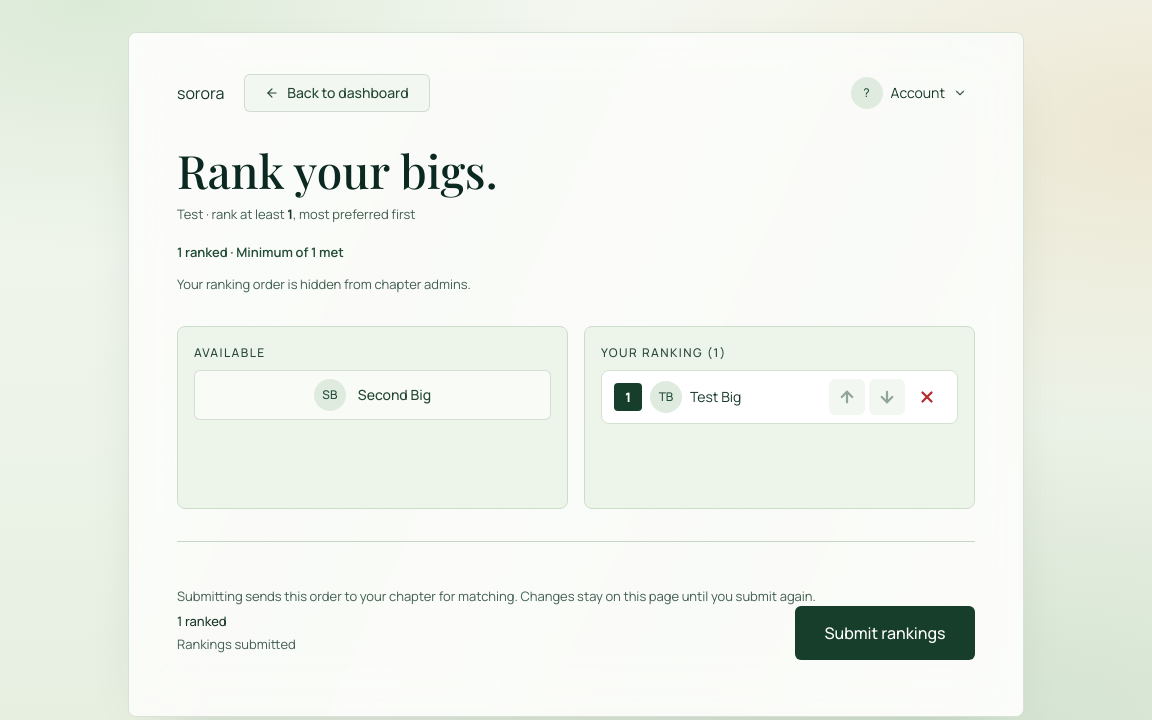
Test case: ranking progress and save state follow edits, failures and confirmed saves
This screenshot has width=1152, height=720.
Expected: the text "Your ranking (1)" is shown, [601,344,727,361]
Expected: the message named "Ranking submission status" shows "Rankings submitted", [177,636,296,654]
What coordinates should you click on to do the following:
click the button "SB Second Big"
I would click on:
 (372, 395)
Its box is [194,370,551,420].
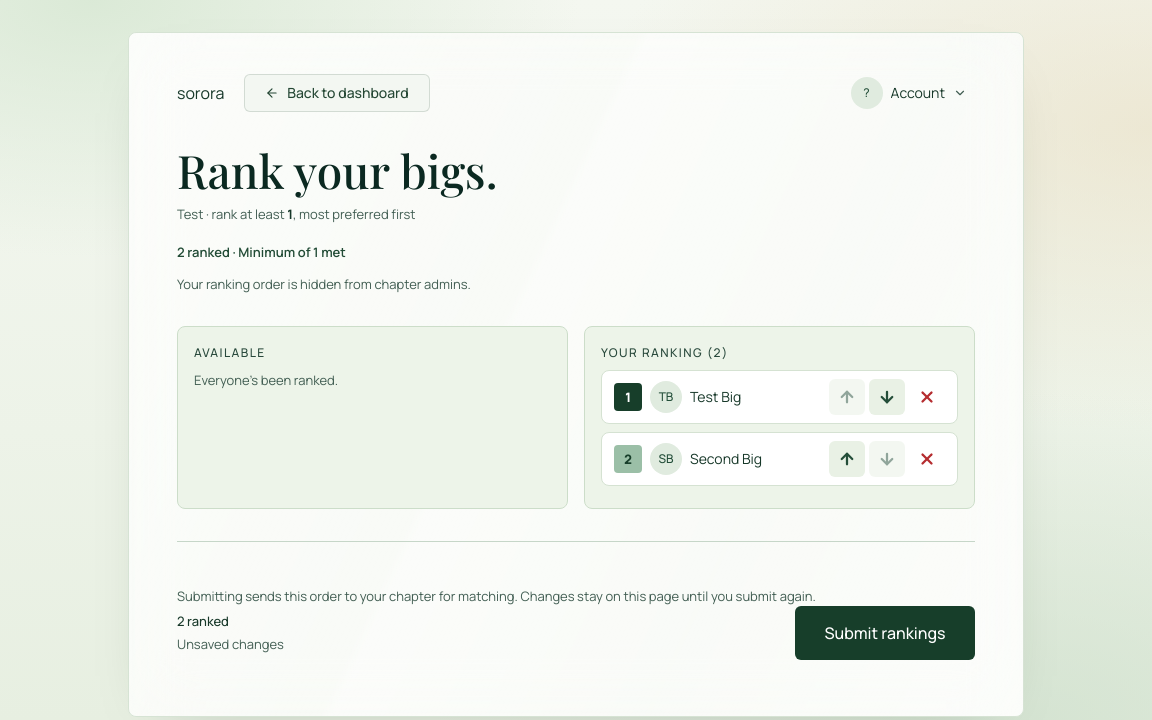
Expected: the message named "Ranking submission status" shows "Unsaved changes", [177,636,284,654]
Expected: the text "2 ranked · Minimum of 1 met" is shown, [177,243,346,261]
What coordinates should you click on to do the following:
click the button "Submit rankings"
I would click on:
 (885, 633)
Its box is [795,606,975,660].
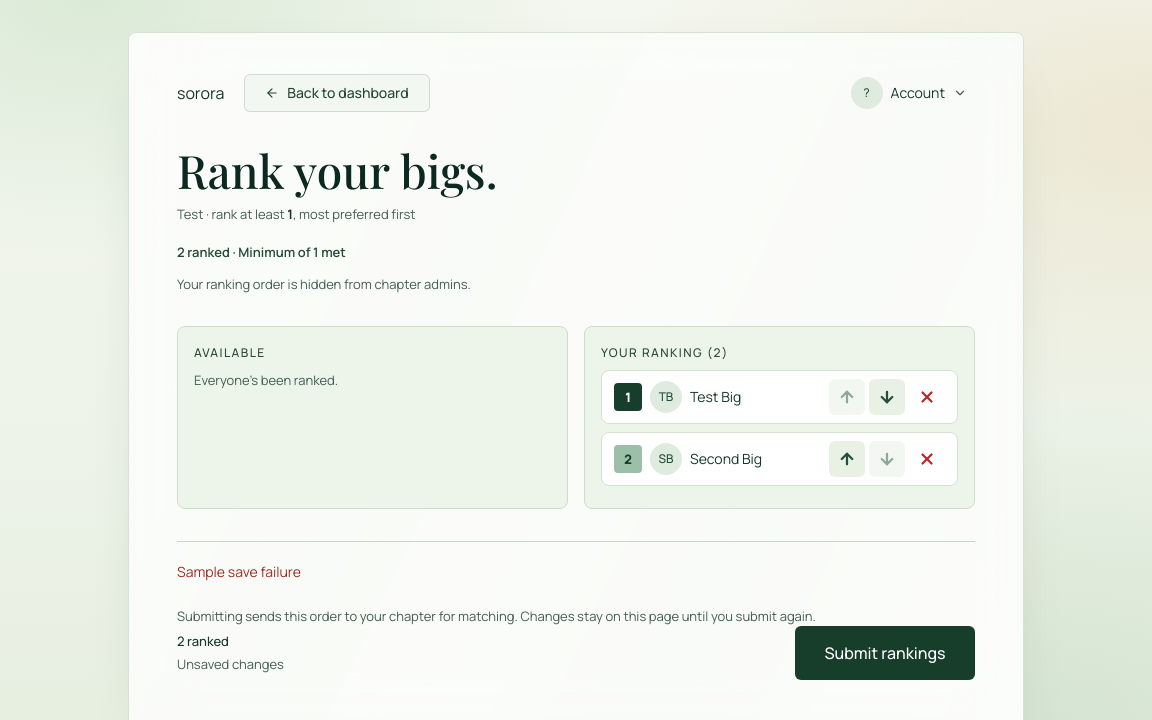
Expected: the message named "Ranking submission status" shows "Unsaved changes", [177,656,284,674]
Expected: the message "Sample save failure" is shown, [177,562,301,581]
What coordinates should you click on to do the following:
click the button "Submit rankings"
I would click on:
 (885, 653)
Its box is [795,626,975,680].
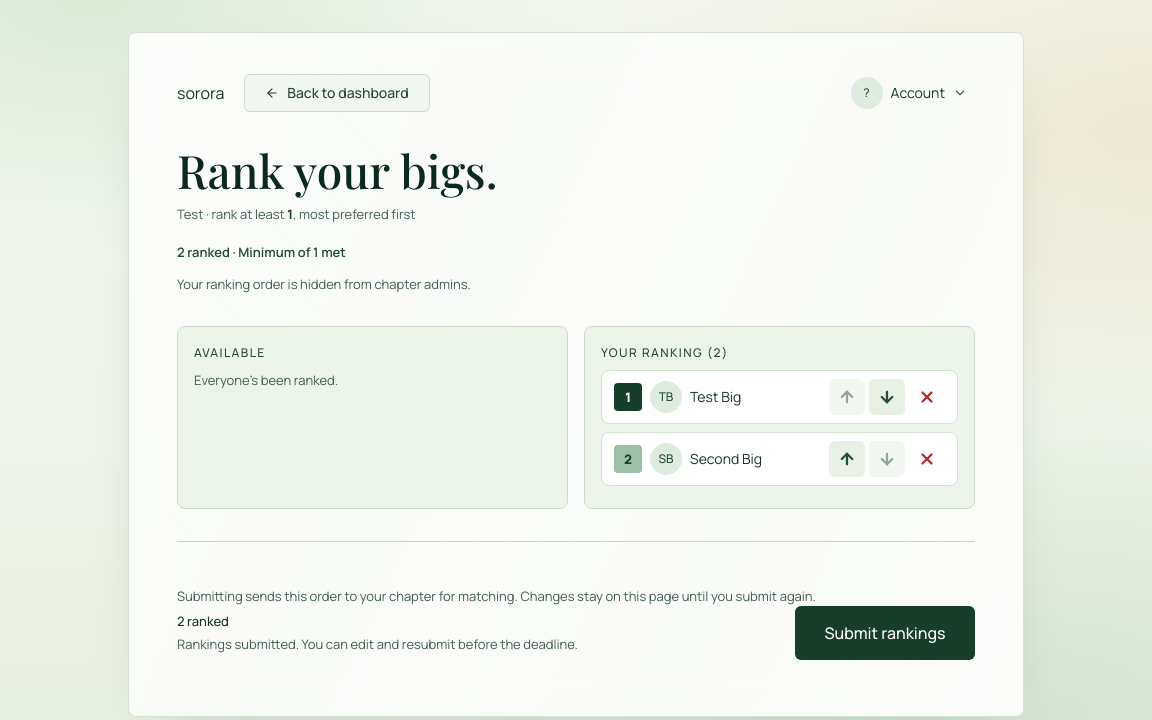
Expected: the message named "Ranking submission status" shows "Rankings submitted. You can edit and resubmit before the deadline.", [177,636,578,654]
What coordinates should you click on to do the following:
click the button named "Remove Second Big from ranking"
I would click on:
 (927, 459)
Its box is [909,441,945,477].
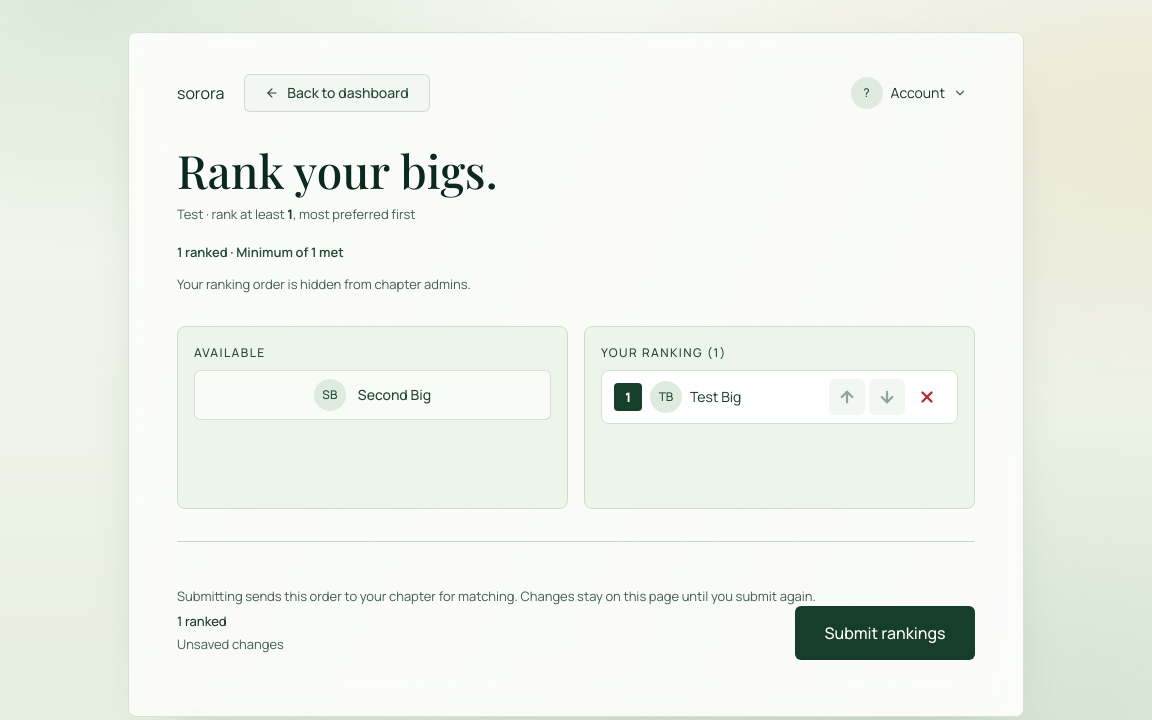
Expected: the message named "Ranking submission status" shows "Unsaved changes", [177,636,284,654]
Expected: the text "Rankings submitted. You can edit and resubmit before the deadline." is gone
